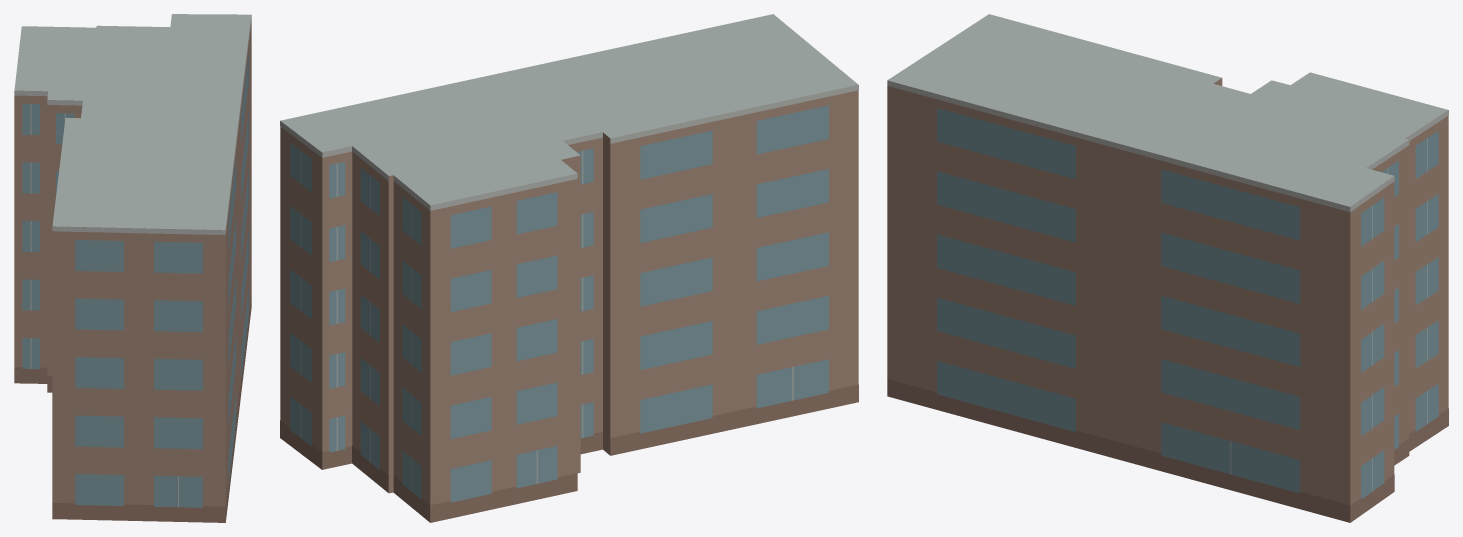
File: survey-upis-32736804.glb
3 renders of one model, left to right at view 1: azimuth 30°, elevation 25°; view 2: azimuth 150°, elevation 25°; view 3: azimuth 270°, elevation 25°, orthographic. The views are drawn at different scales.
Parts seen in each view (by area): view 1: survey-upis-32736804.tmp; view 2: survey-upis-32736804.tmp; view 3: survey-upis-32736804.tmp.
Boxes of the visible parts, box(x1,y1,x2,y2) form: survey-upis-32736804.tmp: box(14, 14, 251, 522); survey-upis-32736804.tmp: box(280, 14, 858, 522); survey-upis-32736804.tmp: box(887, 14, 1448, 522).
Size of the model in its own units: 18.87 by 14.4 by 23.21.
